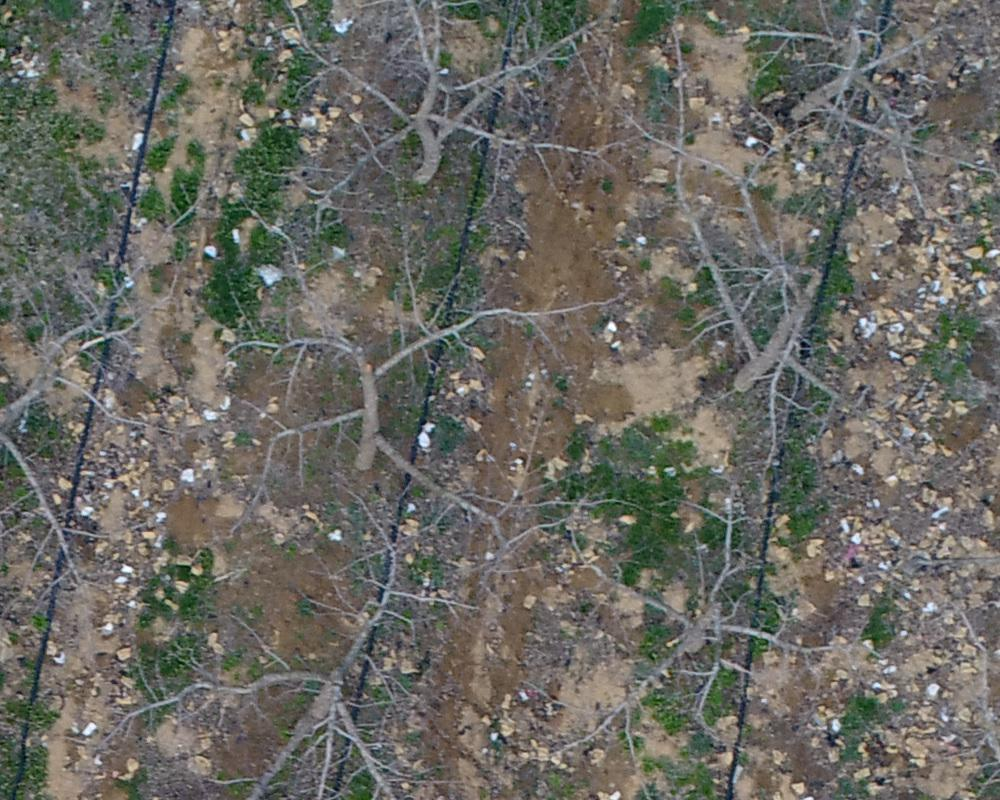apple: (117, 541, 522, 790), (625, 135, 903, 490), (232, 244, 557, 543), (546, 484, 845, 756), (280, 10, 608, 225), (724, 10, 990, 221), (10, 219, 146, 618)
